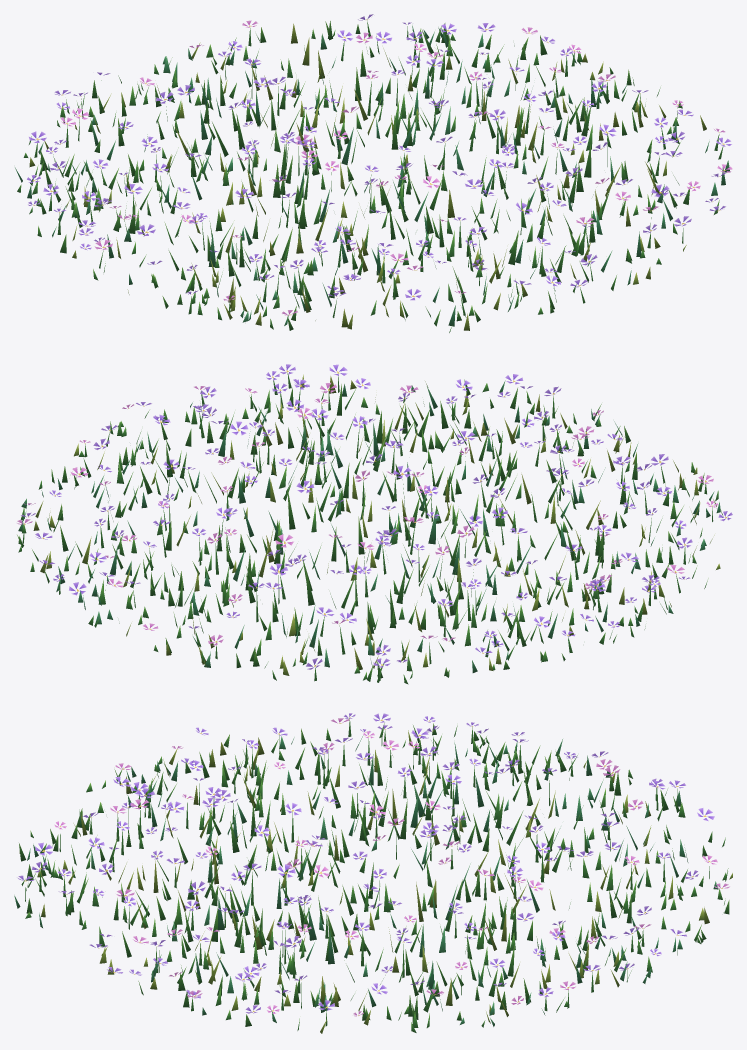
3 renders of one model, top to bottom at view 1: azimuth 30°, elevation 25°; view 2: azimuth 150°, elevation 25°; view 3: azimuth 270°, elevation 25°, orthographic.
Parts seen in each view (by area): view 1: gr3_c; view 2: gr3_c; view 3: gr3_c.
Boxes of the visible parts, <box> form: gr3_c: <box>15,14,732,332</box>; gr3_c: <box>17,364,732,684</box>; gr3_c: <box>14,713,732,1033</box>.
Size of the model in its own units: 7.77 by 0.5188 by 7.79.
1 material, 1 textured.
